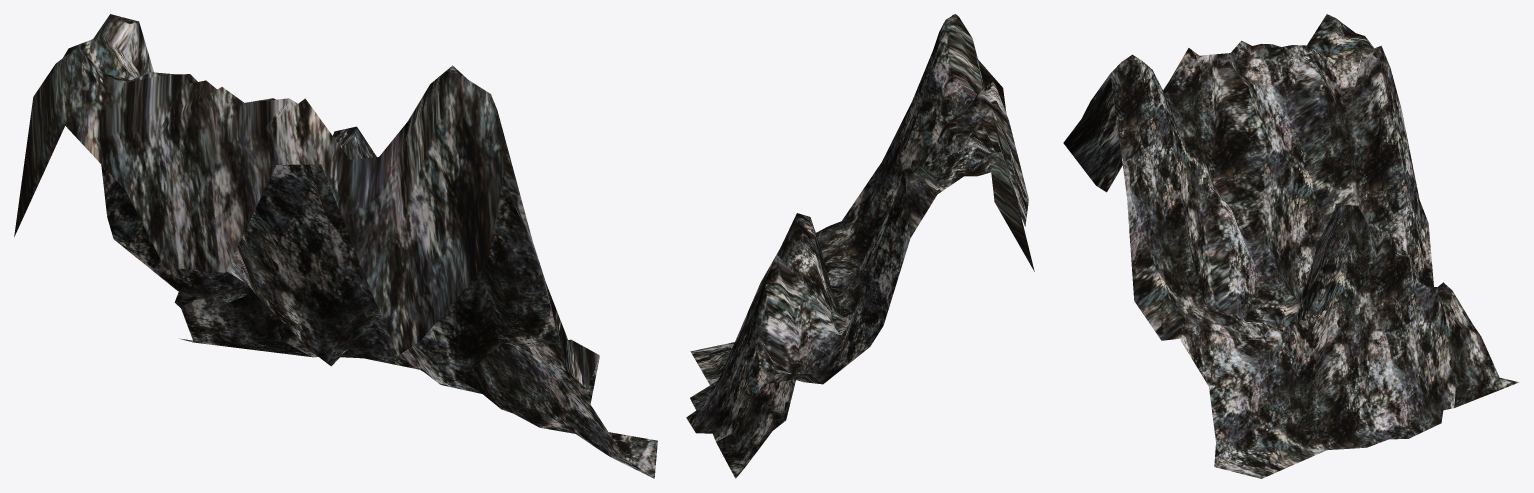
Rendered from OVERHILL_A_01_MOUN1_OBJECT144.fbx.
3 views of the same model, side by side, from view 1: azimuth 30°, elevation 25°; view 2: azimuth 150°, elevation 25°; view 3: azimuth 270°, elevation 25° (orthographic). The views are drawn at different scales.
Parts seen in each view (by area): view 1: OVERHILL_A_01_MOUN1_OBJECT144; view 2: OVERHILL_A_01_MOUN1_OBJECT144; view 3: OVERHILL_A_01_MOUN1_OBJECT144.
Part boxes in pixels (left/top/right/bottom): OVERHILL_A_01_MOUN1_OBJECT144: left=14, top=14, right=657, bottom=478; OVERHILL_A_01_MOUN1_OBJECT144: left=686, top=14, right=1034, bottom=478; OVERHILL_A_01_MOUN1_OBJECT144: left=1063, top=14, right=1518, bottom=478.
Size of the model in its own units: 396676 by 335443 by 422640.
Materials: 1 (1 with a texture image).
